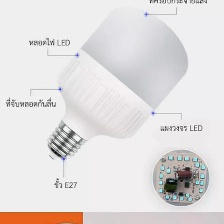light_bulb: (44, 2, 193, 165)
